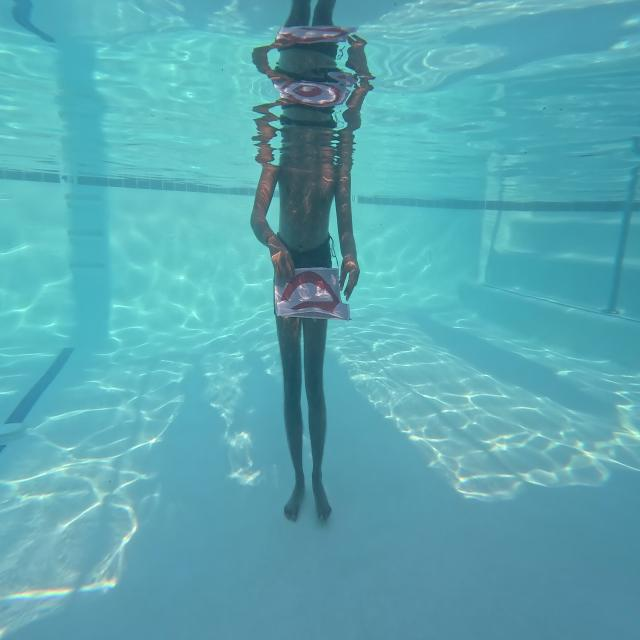red_side: (275, 261, 347, 318)
